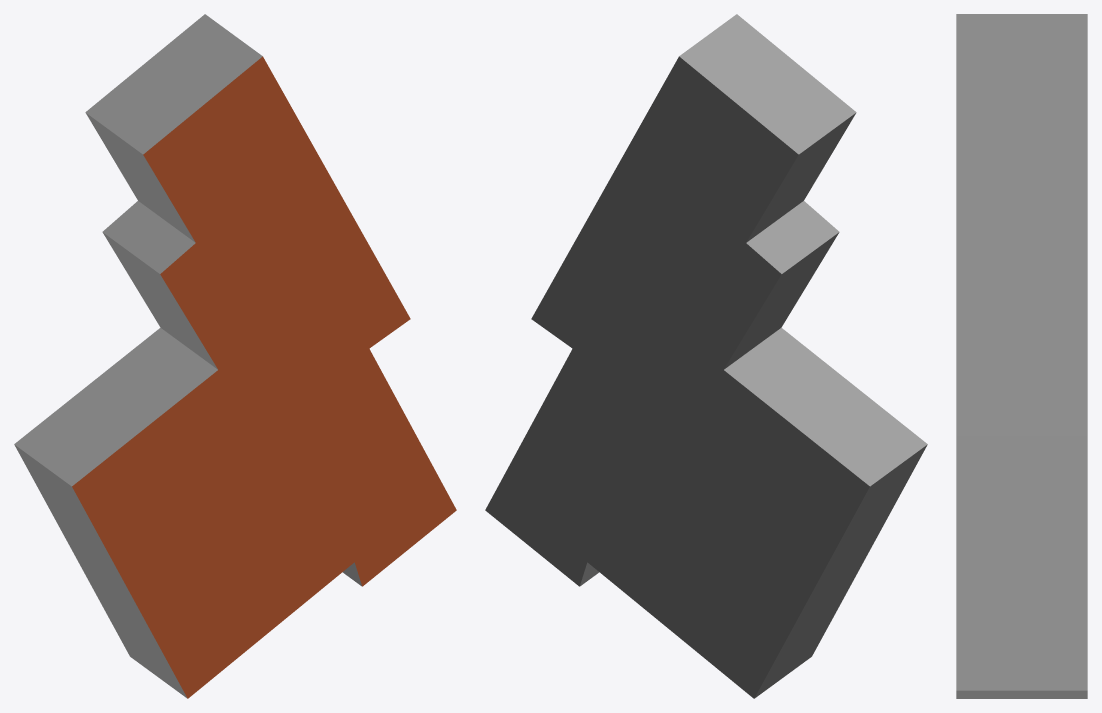
The model's file is construction_1695_assumed_A_Casa_h6m.obj.
The picture shows the model from 3 angles, left to right: view 1: azimuth 30°, elevation 25°; view 2: azimuth 150°, elevation 25°; view 3: azimuth 270°, elevation 25°; orthographic projection. The views are drawn at different scales.
Parts seen in each view (by area): view 1: construction_1695_assumed_A_Casa; view 2: construction_1695_assumed_A_Casa; view 3: construction_1695_assumed_A_Casa.
Part boxes in pixels (bbox=[...]): construction_1695_assumed_A_Casa: bbox=[14, 14, 456, 698]; construction_1695_assumed_A_Casa: bbox=[485, 14, 927, 698]; construction_1695_assumed_A_Casa: bbox=[956, 14, 1087, 698].
Bounding box in the file's own units: 23.06 × 35.74 × 6.
